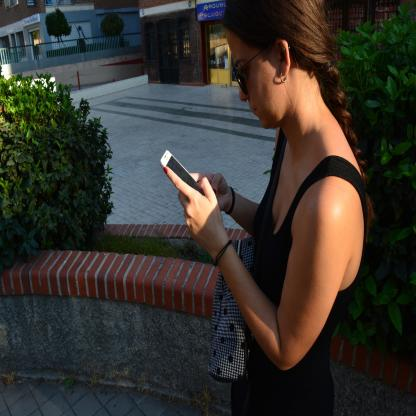smartphone: (159, 149, 206, 197)
